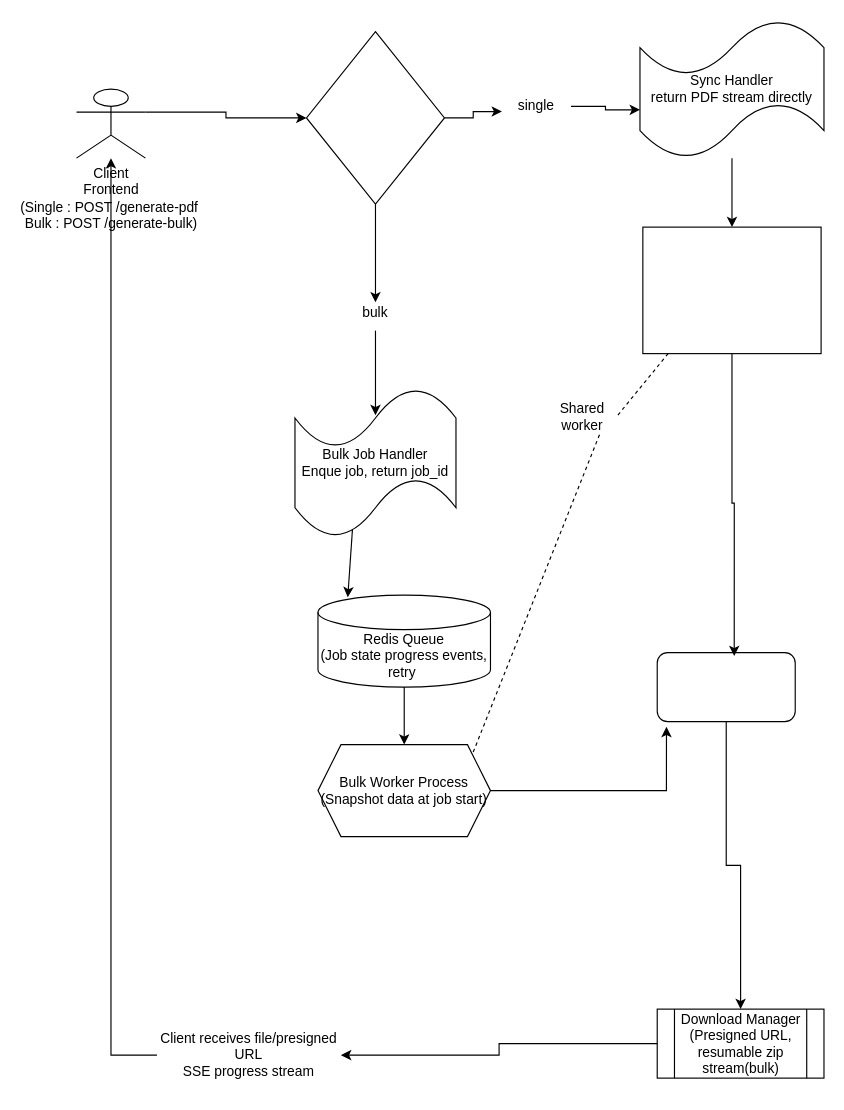
This 844x1110 diagram has some shape labels left out. The shapes that lost their labels are listed below. From the top down, each one's centre as x and y in pixels, then its label:
point (374, 117): Api Gateway + Load balancer Auth Routing
point (731, 290): Puppeter Worker Pool Concurrency limited via p-limit OOM guard
point (725, 686): S3 multi part ZIP stream, no disk buffer
